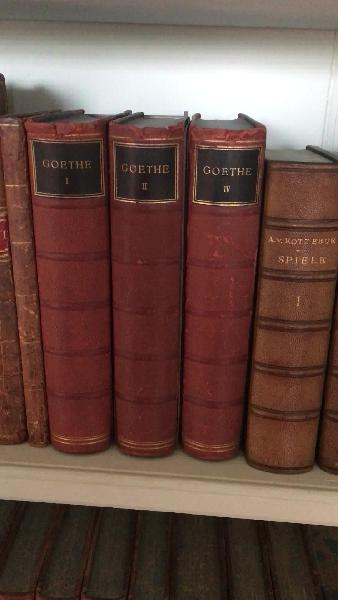Aa6-10: (3, 114, 47, 451)
Aa6-11_13: (18, 107, 259, 453)
